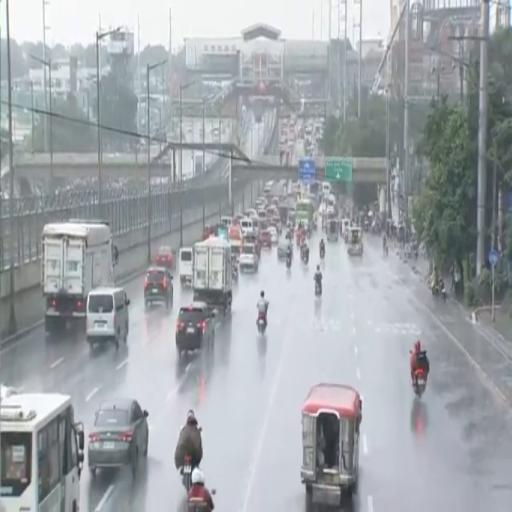bus: (0, 393, 84, 511), (295, 199, 314, 222)
car: (88, 398, 148, 476), (176, 301, 215, 356), (144, 267, 173, 308), (239, 243, 258, 273), (155, 246, 175, 269), (243, 231, 260, 257), (277, 240, 289, 260), (260, 230, 272, 248), (268, 226, 278, 244)
jeepney: (301, 383, 362, 506), (348, 227, 362, 255), (327, 218, 339, 241)
motorcycle: (414, 368, 426, 398), (182, 456, 192, 491), (257, 313, 266, 334), (439, 281, 446, 301), (301, 249, 308, 264), (432, 283, 439, 298), (232, 265, 238, 282), (315, 280, 321, 297), (286, 255, 291, 269), (384, 244, 388, 257), (320, 248, 324, 260)
truck: (41, 220, 118, 333), (192, 236, 232, 315)
